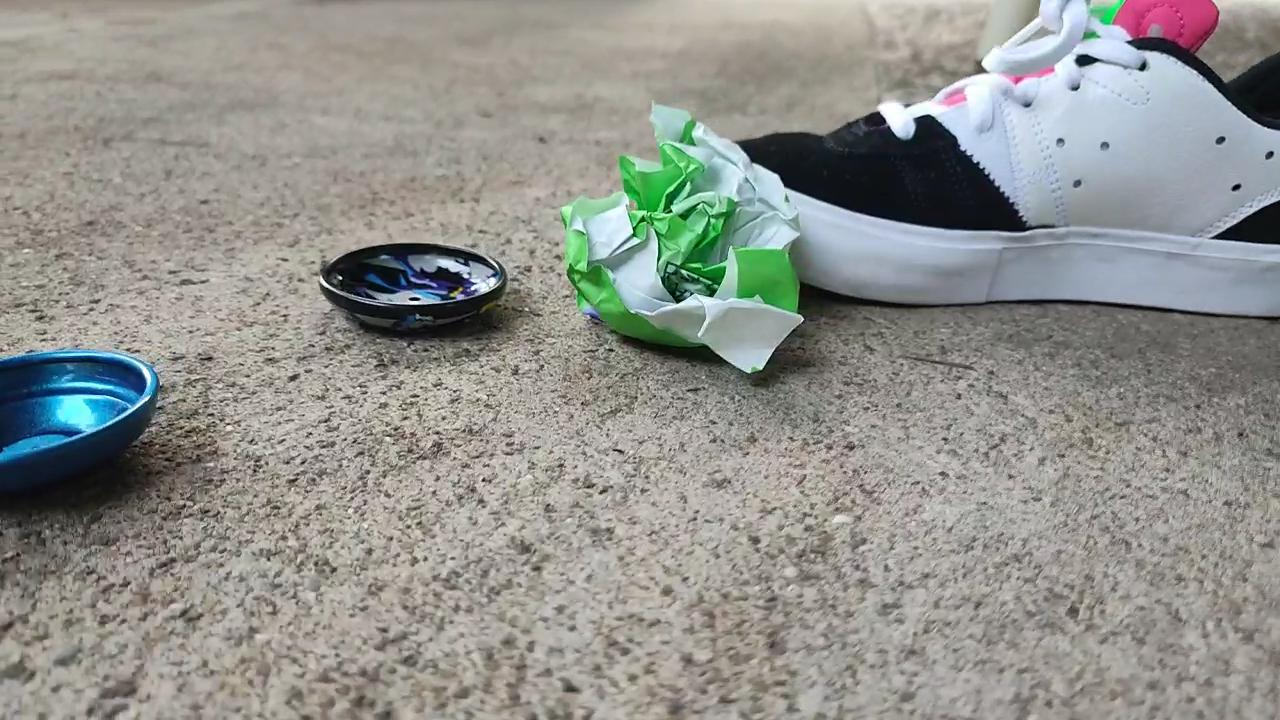Paper: (554, 89, 816, 383)
